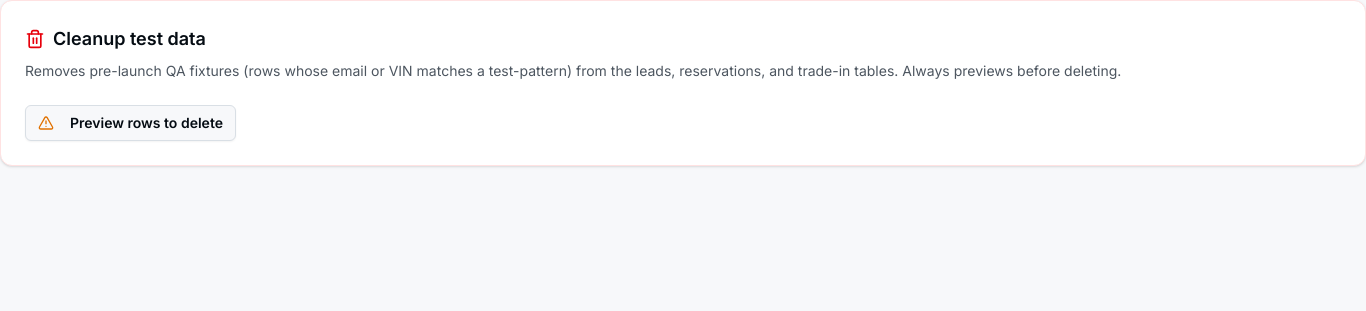
CleanupTestDataCard › returns to idle when cancel is clicked
The image size is (1366, 311).
Click the button "Preview rows to delete".
click(130, 123)  # box [25,105,236,141]
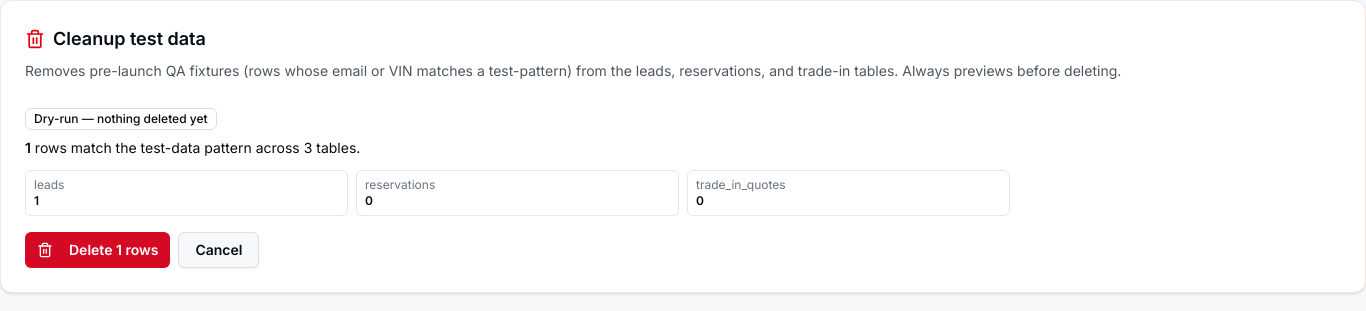
Now the button "Delete 1 rows" is shown, box [25,232,170,268]
Click the button "Cancel".
click(219, 250)  # box [178,232,259,268]
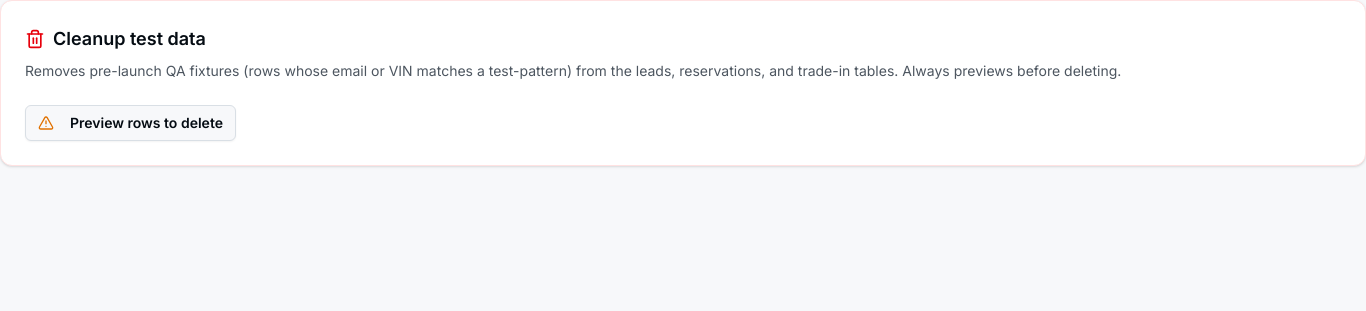
Now the button "Preview rows to delete" is shown, box [25,105,236,141]
